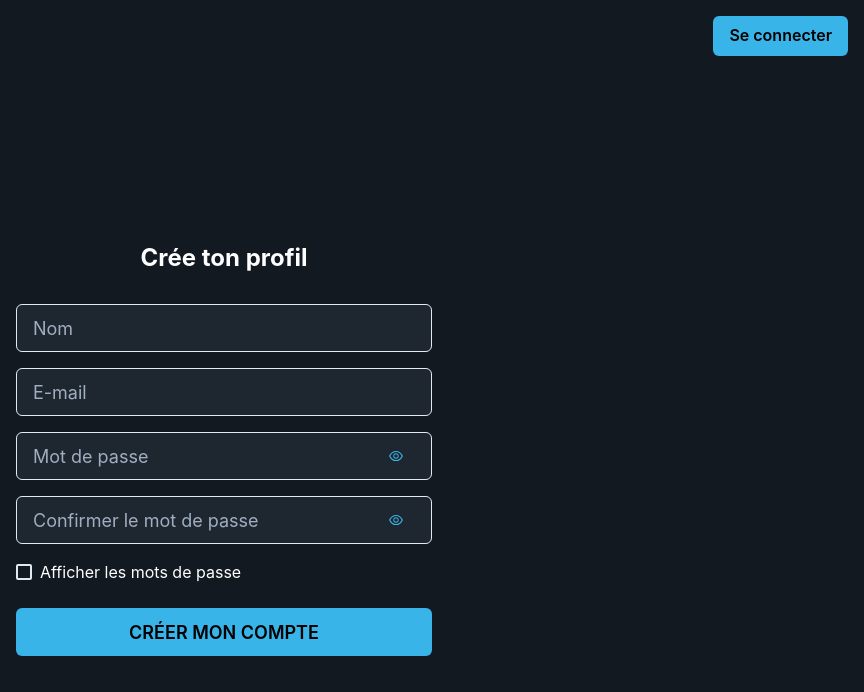
Scenario: Register › Password Validation › shows error when password is too short
In the field with placeholder "Nom": point(224, 328) [16,304,432,352], type "John Doe"
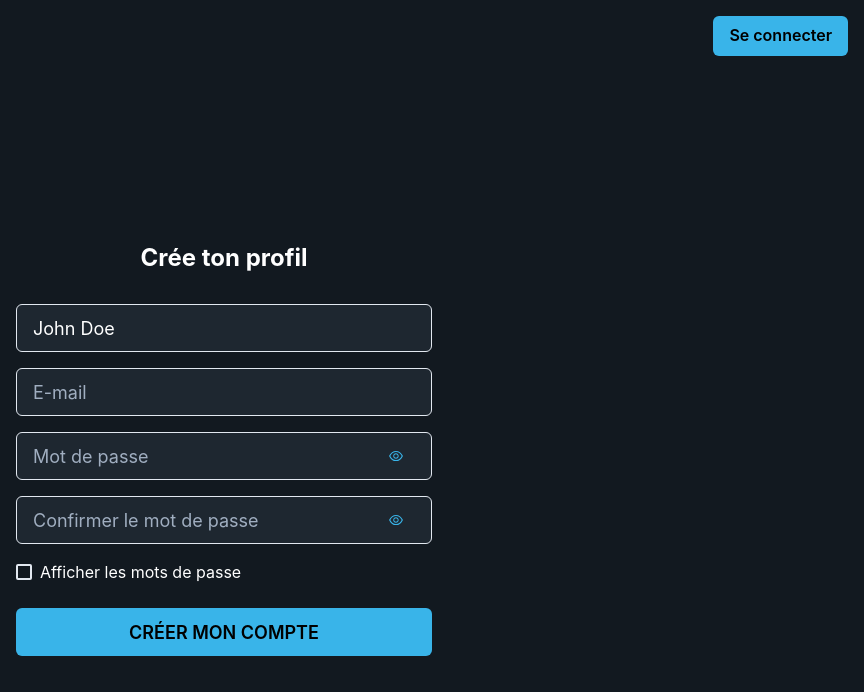
In the field with placeholder "E-mail": point(224, 392) [16,368,432,416], type "john@example.com"
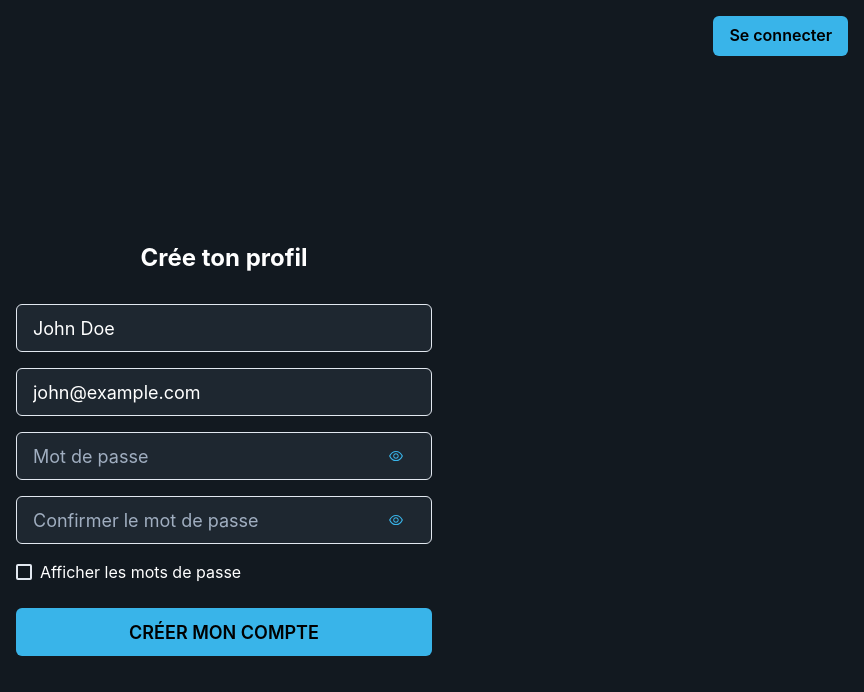
In the password field with placeholder "Mot de passe": point(224, 456) [16,432,432,480], type "123"
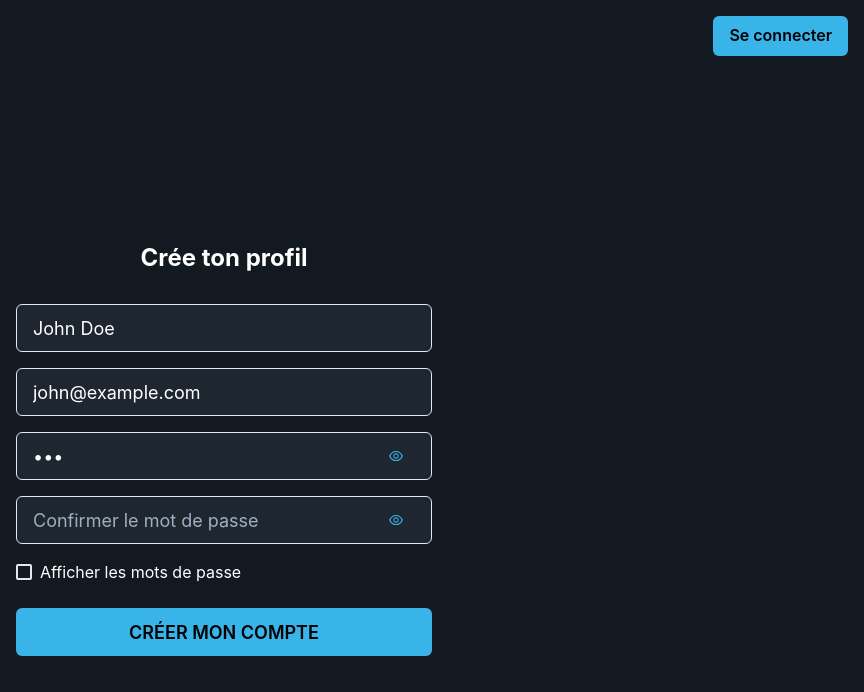
In the password field with placeholder "Confirmer le mot de passe": point(224, 520) [16,496,432,544], type "123"
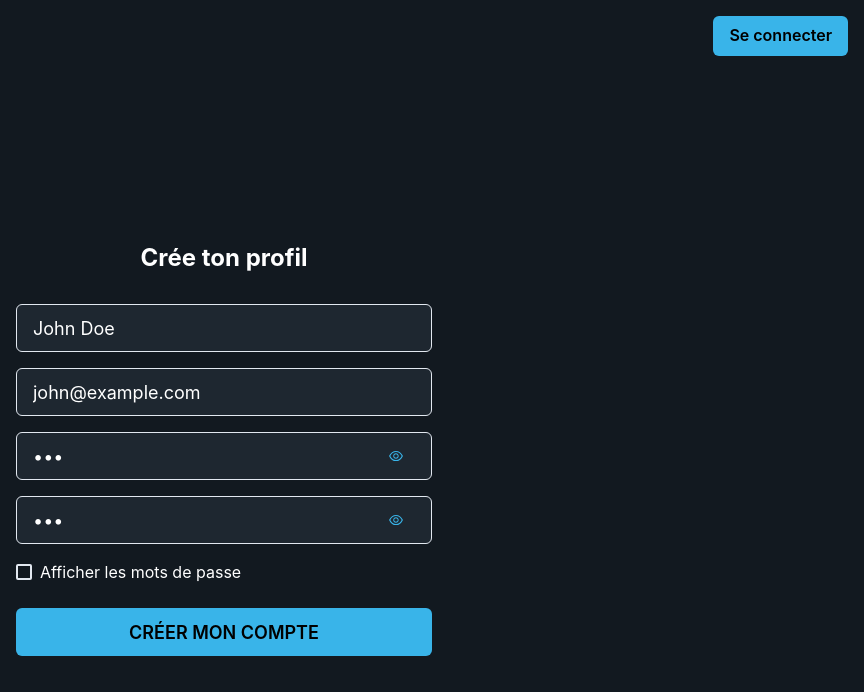
Click the button "CRÉER MON COMPTE": point(224, 632) [16,608,432,656]
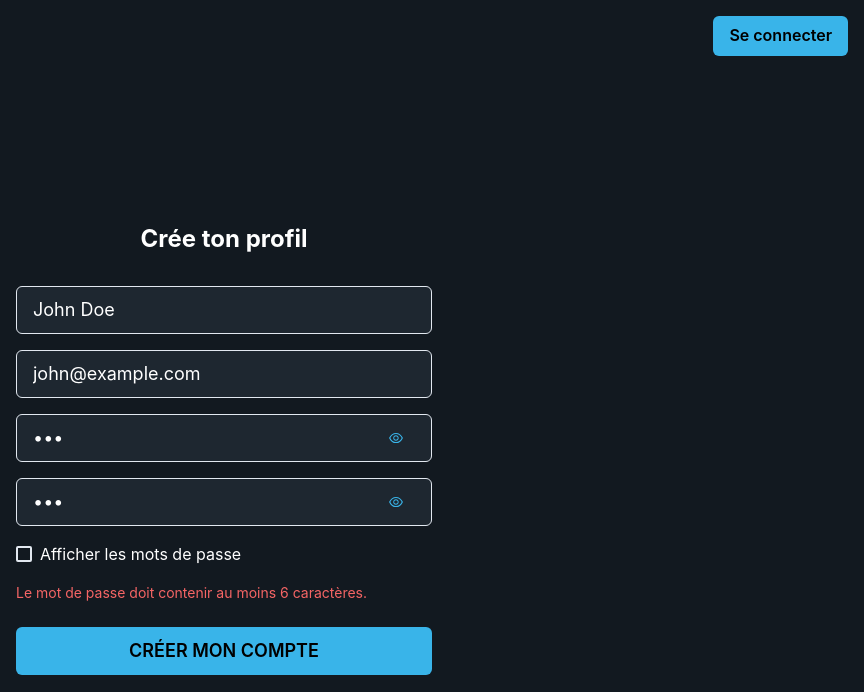
Expected: the text "Le mot de passe doit contenir au moins 6 caractères." is shown, [16,582,367,603]
